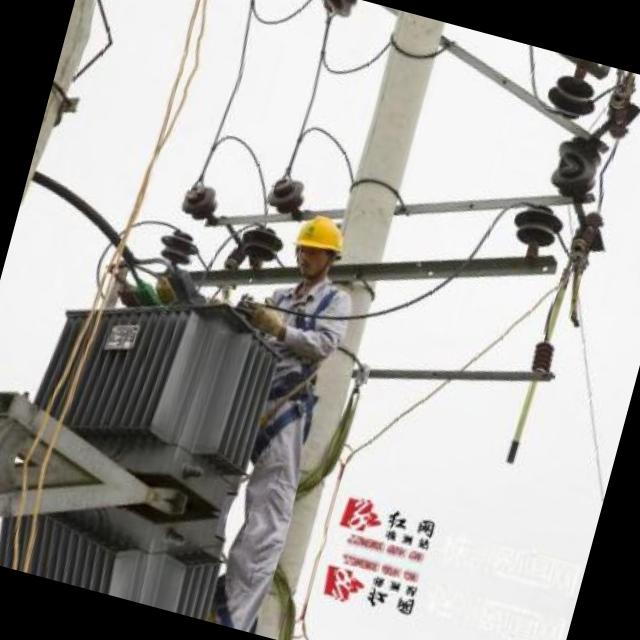helmet: (280, 206, 354, 286)
